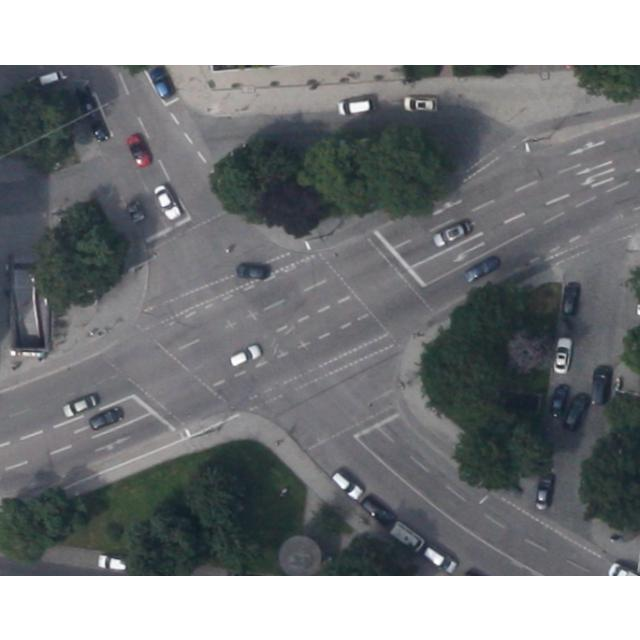vehicle: (388, 520, 426, 554), (431, 218, 472, 248), (359, 494, 395, 528), (462, 254, 500, 284), (152, 182, 182, 220), (562, 392, 590, 432), (422, 544, 458, 574), (27, 66, 65, 92), (331, 470, 363, 500), (125, 132, 151, 168), (147, 65, 175, 98), (590, 365, 612, 405), (88, 406, 124, 430), (62, 394, 96, 418), (534, 472, 554, 511), (229, 343, 261, 367), (552, 336, 572, 374), (548, 384, 568, 418), (88, 114, 110, 142), (562, 280, 580, 314), (236, 260, 268, 278), (338, 98, 372, 114), (96, 554, 130, 570), (404, 95, 436, 111), (127, 200, 145, 222)
